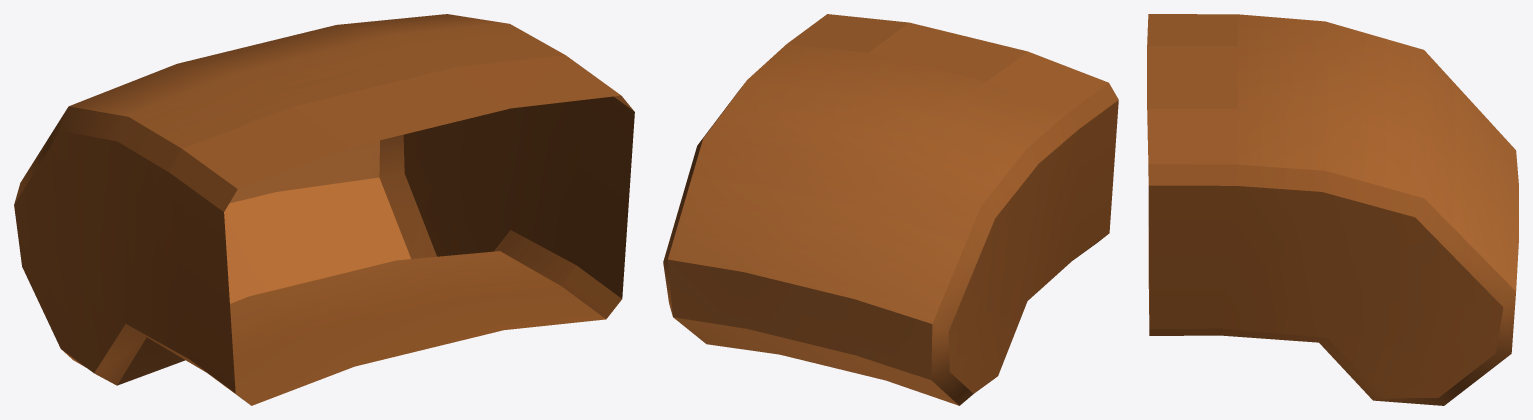
File: Border Connect 01.FBX
3 renders of one model, left to right at view 1: azimuth 30°, elevation 25°; view 2: azimuth 150°, elevation 25°; view 3: azimuth 270°, elevation 25°, orthographic. The views are drawn at different scales.
Visible parts, largest first — view 1: Border Connect 01; view 2: Border Connect 01; view 3: Border Connect 01.
Boxes of the visible parts, x1,y1,x2,y2 form: Border Connect 01: (14, 14, 634, 405); Border Connect 01: (663, 14, 1118, 405); Border Connect 01: (1147, 14, 1518, 405).
Bounding box in the file's own units: 485 × 367 × 473.
Materials: 1 (1 with a texture image).
